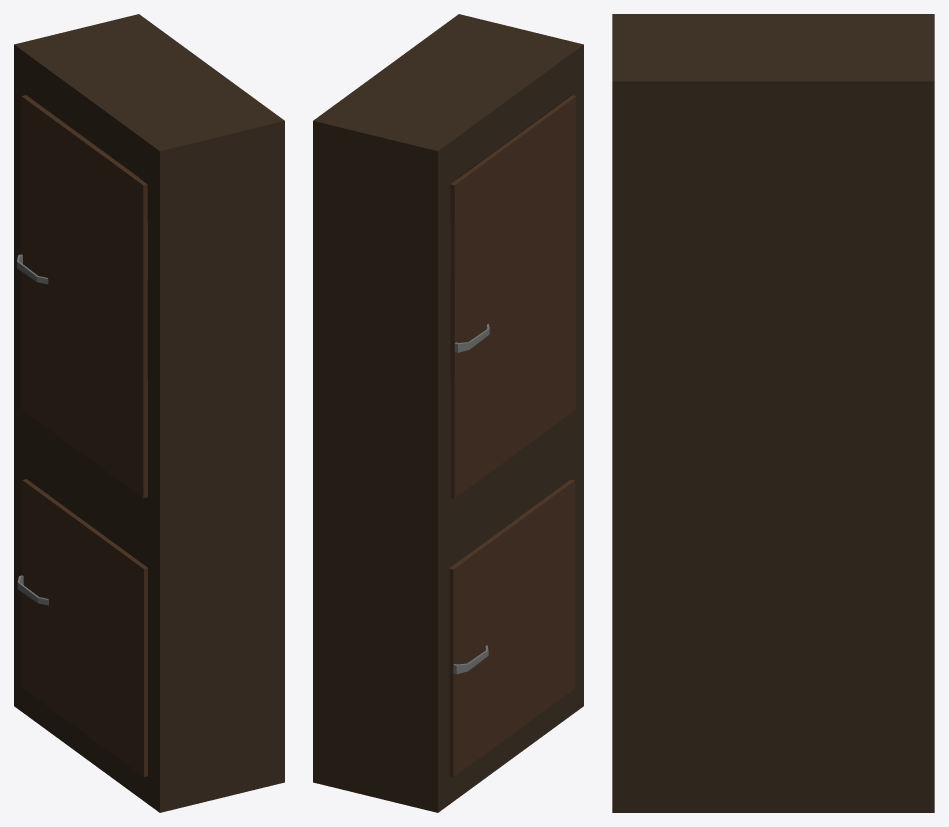
File: Estante.fbx
3 renders of one model, left to right at view 1: azimuth 30°, elevation 25°; view 2: azimuth 150°, elevation 25°; view 3: azimuth 270°, elevation 25°, orthographic. The views are drawn at different scales.
Visible parts, largest first — view 1: ArmarioA, ArmarioPortaA, ArmarioPortaB; view 2: ArmarioA, ArmarioPortaA, ArmarioPortaB; view 3: ArmarioA.
Boxes of the visible parts, bbox=[...] form: ArmarioA: bbox=[14, 14, 284, 812]; ArmarioPortaA: bbox=[17, 95, 147, 498]; ArmarioPortaB: bbox=[17, 479, 147, 776]; ArmarioA: bbox=[313, 14, 583, 812]; ArmarioPortaA: bbox=[450, 95, 576, 498]; ArmarioPortaB: bbox=[449, 479, 575, 777]; ArmarioA: bbox=[612, 14, 934, 812].
Bounding box in the file's own units: 36.82 × 167 × 66.76.
